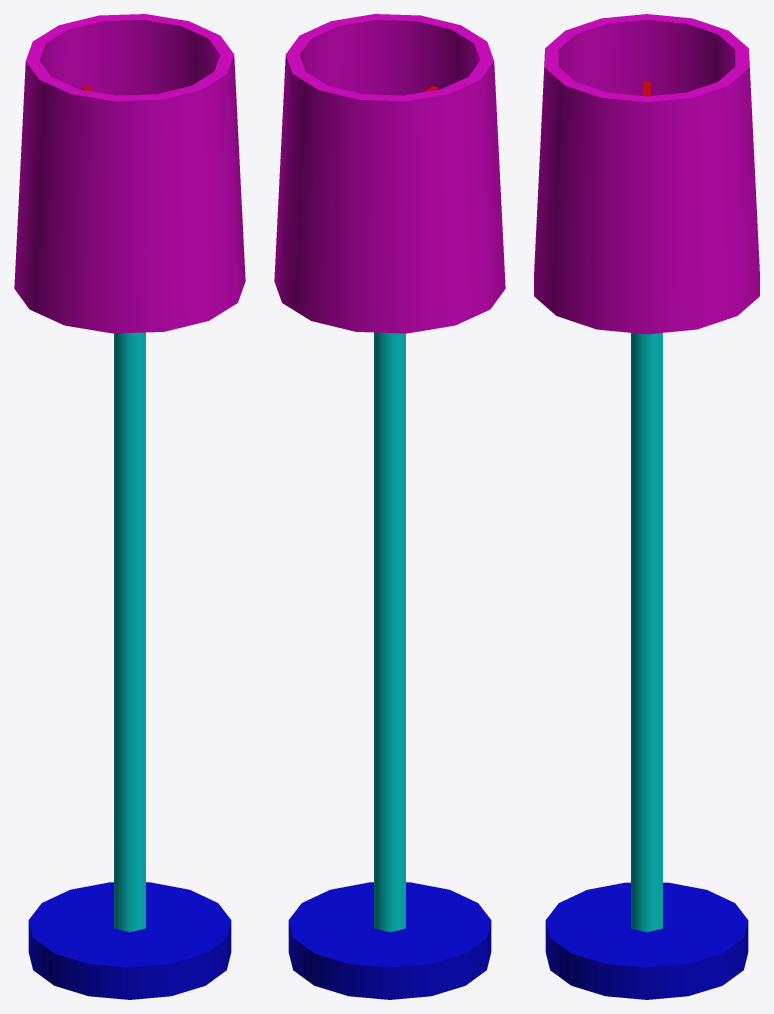
File: SM_Lamp.fbx
3 renders of one model, left to right at view 1: azimuth 30°, elevation 25°; view 2: azimuth 150°, elevation 25°; view 3: azimuth 270°, elevation 25°, orthographic.
Parts seen in each view (by area): view 1: SM_Lamp; view 2: SM_Lamp; view 3: SM_Lamp.
Part boxes in pixels (x1,y1,x2,y2): SM_Lamp: [14, 14, 245, 999]; SM_Lamp: [274, 14, 505, 999]; SM_Lamp: [534, 14, 759, 999].
Size of the model in its own units: 153 by 653 by 149.
